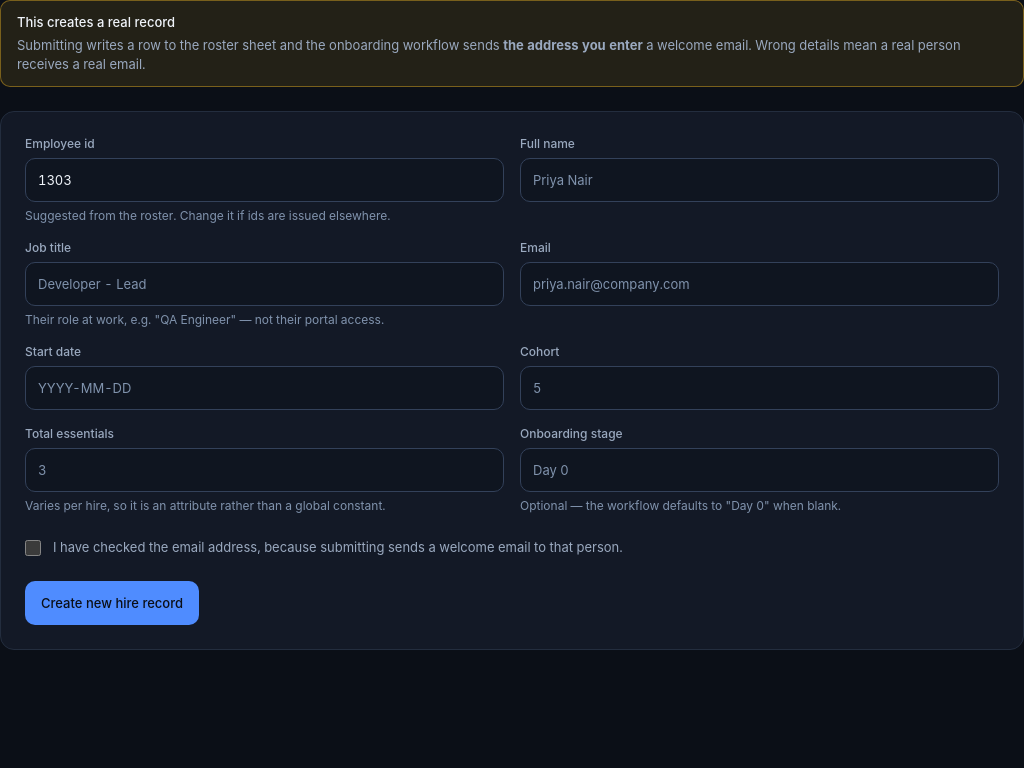
Test: provisioning form › reports each missing required field instead of posting a doomed request
The width and height of the screenshot is (1024, 768).
Click the checkbox with test id "acknowledge" at (33, 548), box x1=25 y1=540 x2=41 y2=556
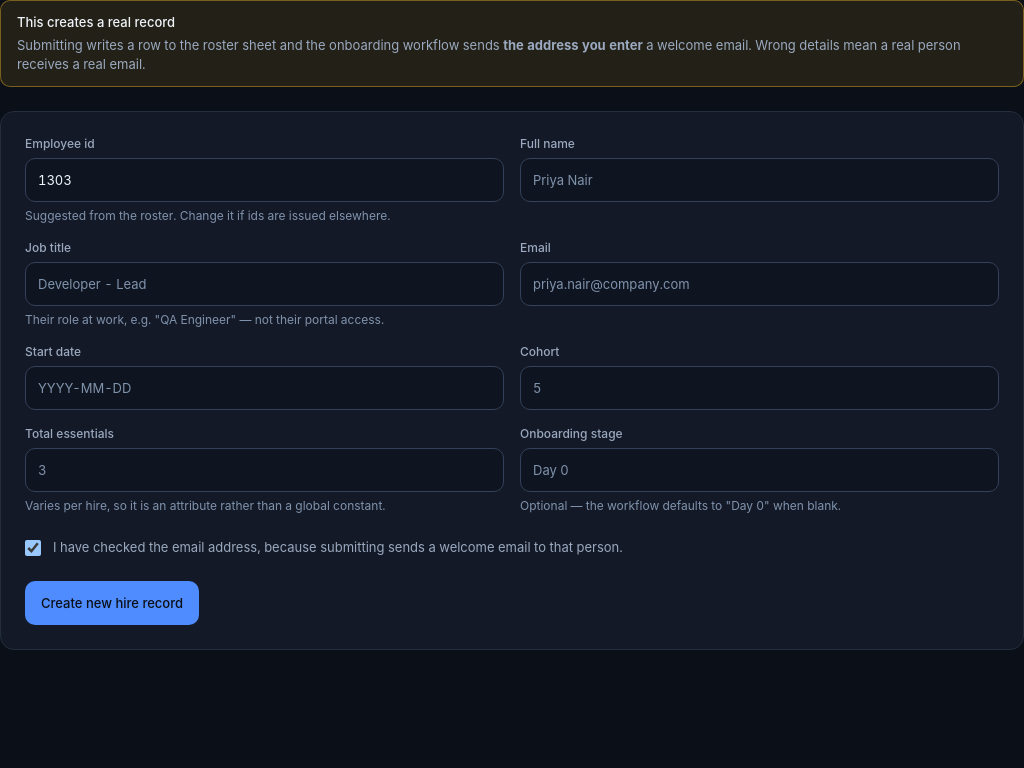
Submit the form with test id "new-hire-form"
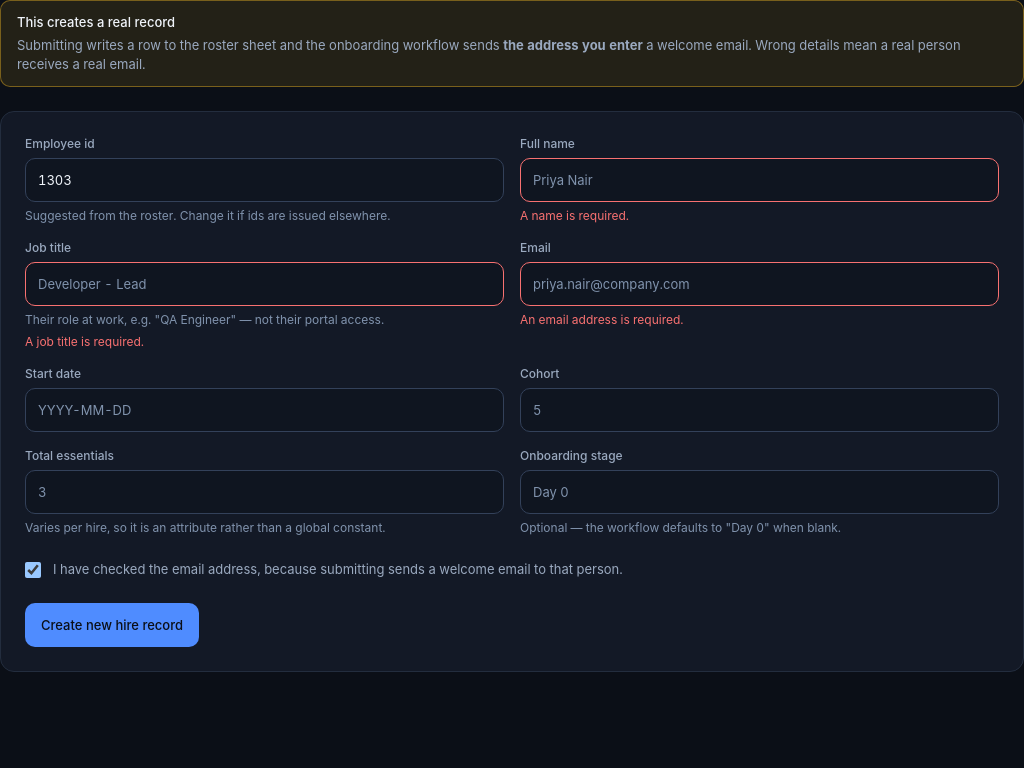
Result: the text "A name is required." is shown at x1=520 y1=208 x2=629 y2=223
Result: the text "A job title is required." is shown at x1=25 y1=334 x2=144 y2=349
Result: the text "An email address is required." is shown at x1=520 y1=312 x2=684 y2=327
